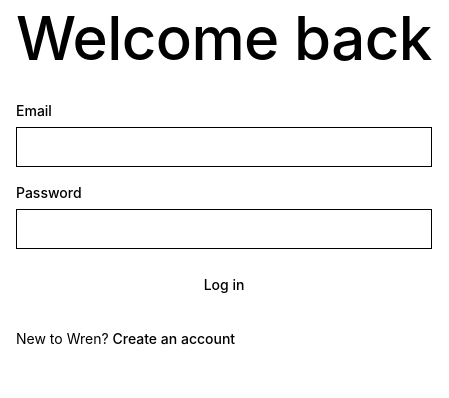
Test case: AuthView › renders the generic message on a failed login
Type "ada@example.com" into the field labelled "Email" at (224, 147), box [16,127,432,167]
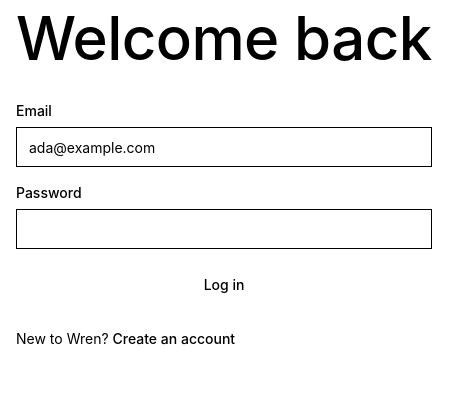
Type "wrong" into the password field labelled "Password" at (224, 229), box [16,209,432,249]
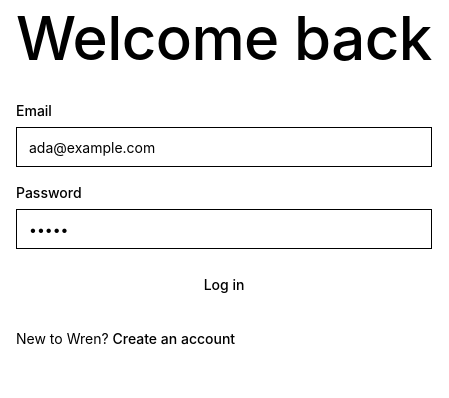
Click the button "Log in" at (224, 285), box [16,265,432,305]
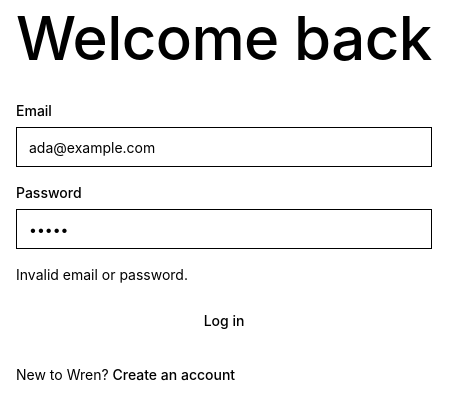
Expected: the message reads "Invalid email or password.", [16,266,188,283]
